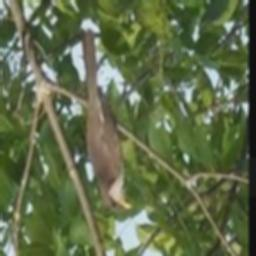Cuckoo: (80, 30, 133, 211)
